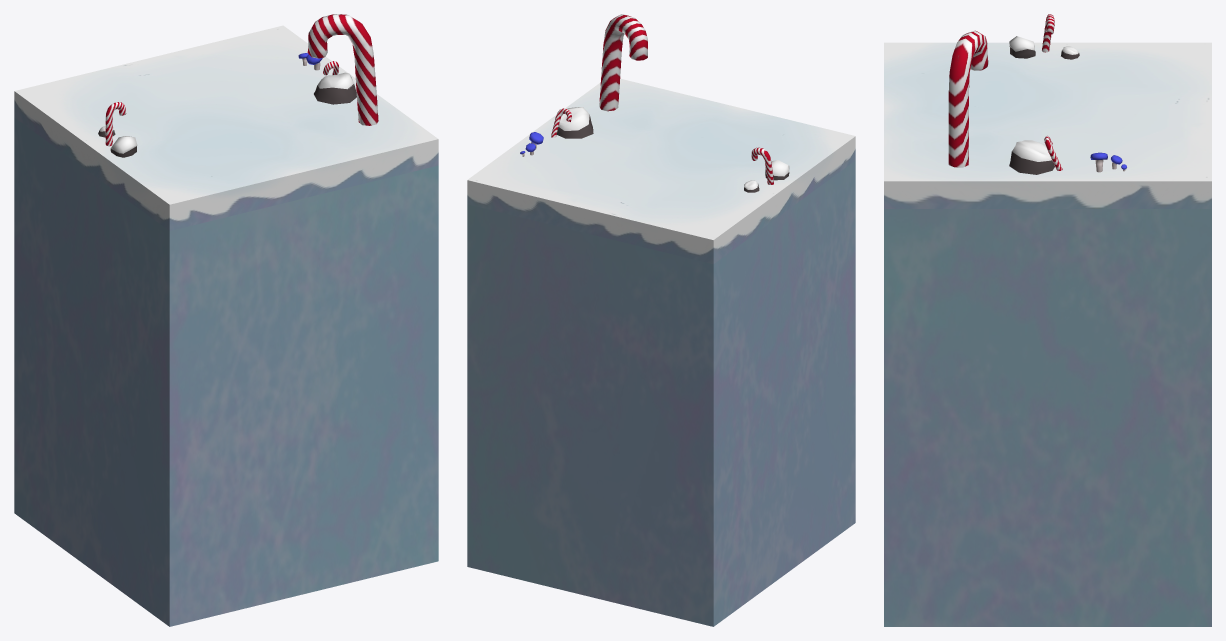
The model's file is Enmedio3Nieve.fbx.
3 renders of one model, left to right at view 1: azimuth 30°, elevation 25°; view 2: azimuth 150°, elevation 25°; view 3: azimuth 270°, elevation 25°, orthographic. The views are drawn at different scales.
Parts seen in each view (by area): view 1: Enmedio3Nieve, Cube.041, Cube.049; view 2: Enmedio3Nieve, Cube.041, Cube.049; view 3: Enmedio3Nieve, Cube.041, Cube.049, Cube.063.
Boxes of the visible parts, bbox=[...] form: Enmedio3Nieve: bbox=[14, 25, 438, 626]; Cube.041: bbox=[307, 14, 378, 125]; Cube.049: bbox=[314, 72, 356, 104]; Enmedio3Nieve: bbox=[467, 78, 855, 626]; Cube.041: bbox=[599, 14, 647, 111]; Cube.049: bbox=[555, 107, 593, 138]; Enmedio3Nieve: bbox=[884, 42, 1211, 626]; Cube.041: bbox=[948, 30, 988, 167]; Cube.049: bbox=[1009, 140, 1054, 174]; Cube.063: bbox=[1009, 36, 1035, 58].
Size of the model in its own units: 1000 by 1889 by 1000.
